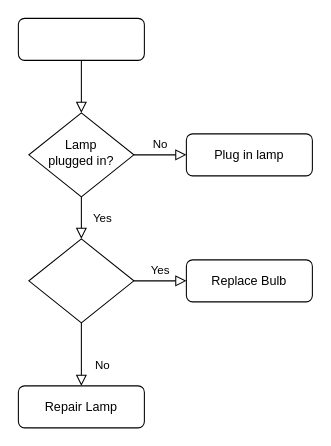
This 331x446 diagram has some shape labels left out. The box of each missing label's shape, as (x1, y1, x2, y2) in pixels:
Bulb burned out?: (28, 238, 134, 323)
Is year d: (17, 17, 144, 60)
